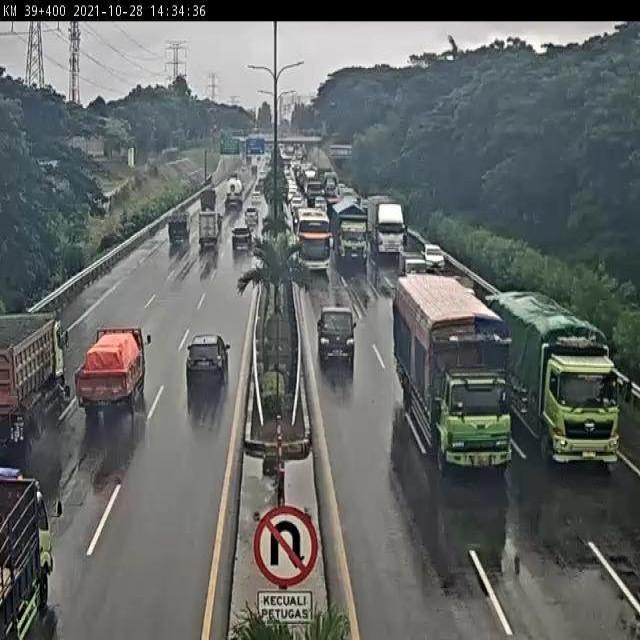big bus: (293, 208, 330, 271)
big truck: (481, 289, 625, 467), (390, 274, 518, 466), (2, 311, 70, 460), (329, 195, 370, 264), (364, 188, 402, 255)
car: (313, 304, 357, 364), (185, 337, 232, 387), (227, 228, 250, 259), (415, 236, 437, 263), (241, 207, 258, 229)
small truck: (0, 468, 70, 640), (73, 329, 153, 422), (167, 208, 192, 244), (197, 212, 220, 251), (196, 187, 217, 216)
